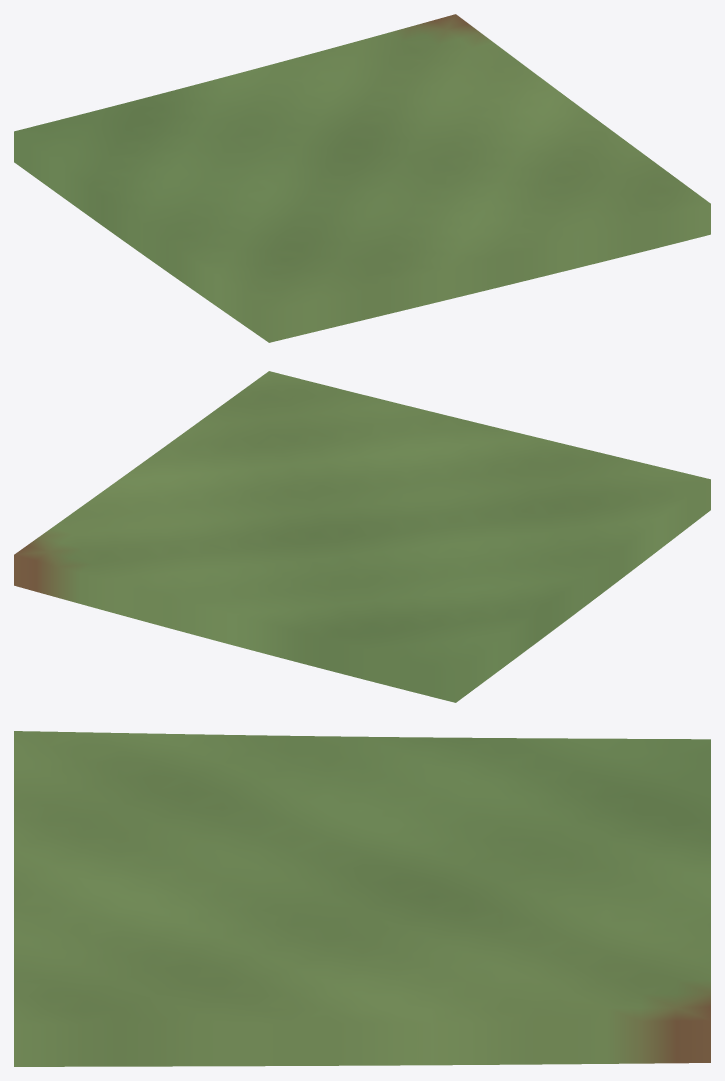
The picture shows the model from 3 angles, top to bottom: view 1: azimuth 30°, elevation 25°; view 2: azimuth 150°, elevation 25°; view 3: azimuth 270°, elevation 25°; orthographic projection. The views are drawn at different scales.
Visible parts, largest first — view 1: terrain; view 2: terrain; view 3: terrain.
Boxes of the visible parts, bbox=[...] form: terrain: bbox=[14, 14, 710, 342]; terrain: bbox=[14, 371, 710, 702]; terrain: bbox=[14, 731, 710, 1066].
Bounding box in the file's own units: 30 × 2.62 × 30.
